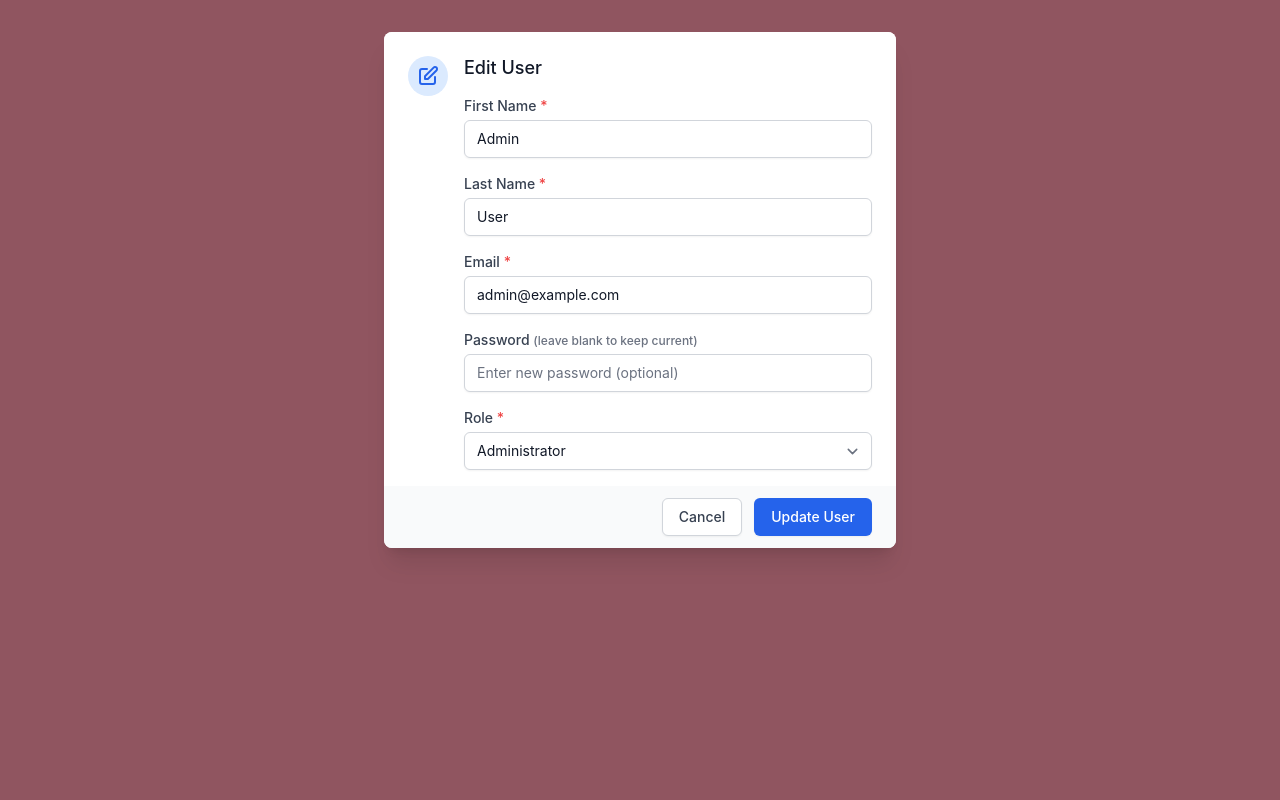
Scenario: EditUserModal › handles validation errors from API
# Trigger form submission
What coordinates should you click on to do the following:
click the submit button
I would click on:
 (813, 517)
Its box is x1=754 y1=498 x2=872 y2=536.
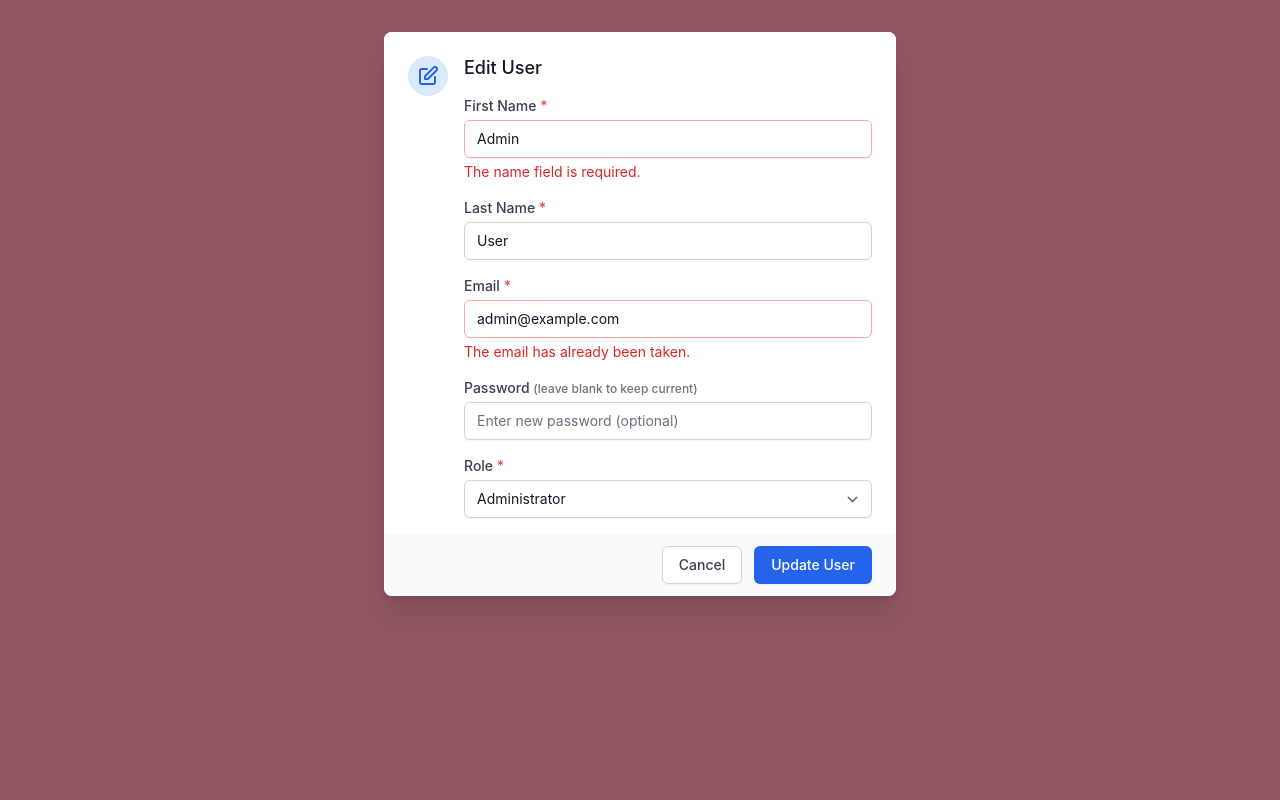
Result: the text "The email has already been taken." is shown at x1=464 y1=343 x2=690 y2=360
Result: the text "The name field is required." is shown at x1=464 y1=163 x2=640 y2=180
